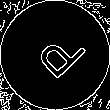P_SW: (24, 24, 86, 86)
